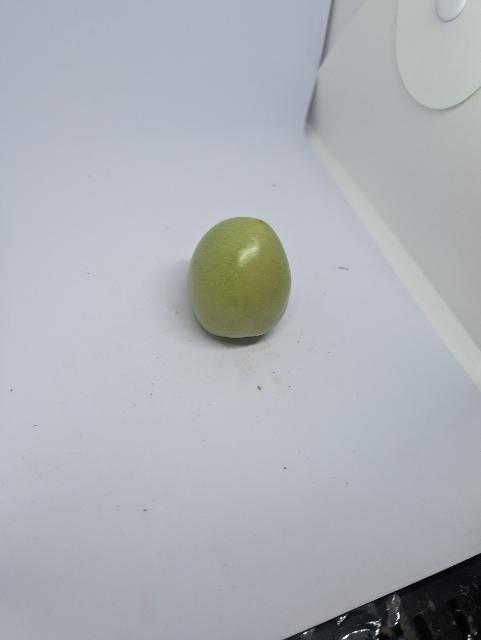green: (186, 214, 295, 342)
